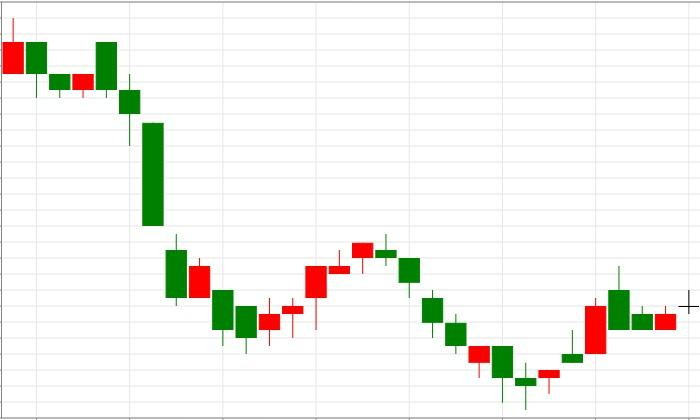three_black_crows_fall: (236, 234, 444, 355)
three_white_soldiers_rise: (96, 41, 327, 355)
